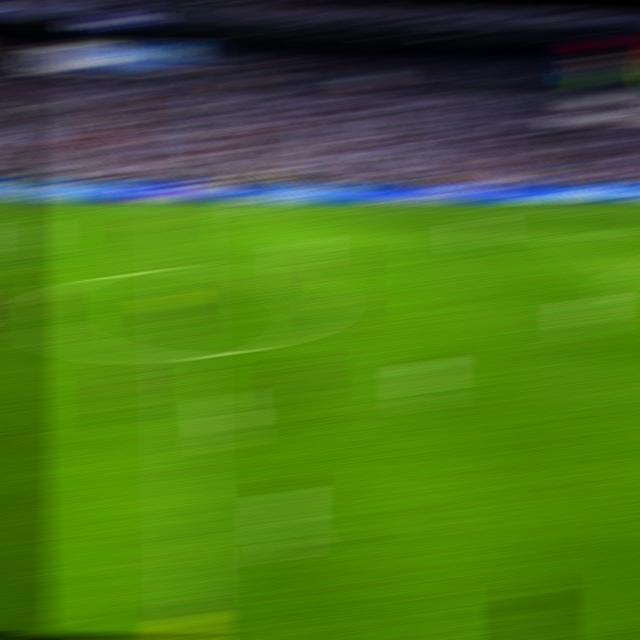halfcircle_bottom: (166, 344, 201, 366)
halfcircle_top: (165, 260, 197, 277)
midline_top_intersection: (163, 201, 195, 211)
top_arc_area_intersection: (620, 261, 640, 274)
